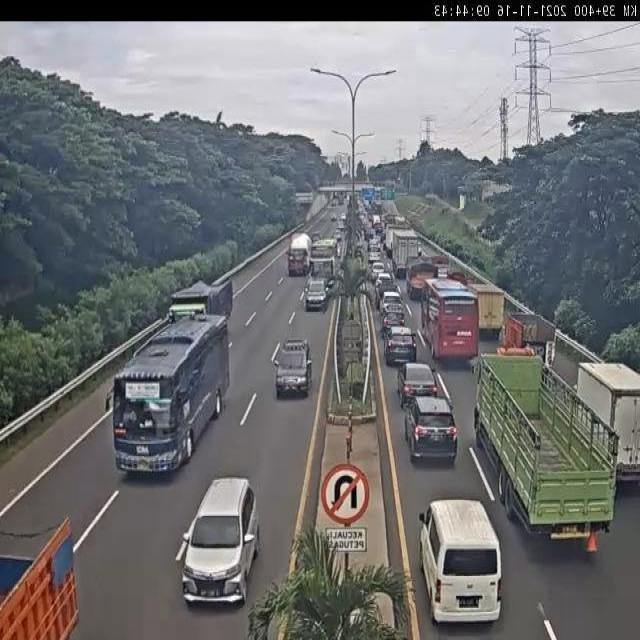Bus: (104, 311, 230, 477), (420, 276, 481, 364), (308, 238, 338, 286)
Car: (179, 477, 258, 606), (403, 394, 459, 464), (274, 337, 314, 398), (396, 361, 440, 403), (384, 324, 418, 366), (379, 303, 406, 337), (304, 279, 329, 312), (380, 289, 402, 312), (376, 271, 395, 291), (370, 260, 386, 278), (333, 226, 342, 242), (340, 212, 346, 223), (331, 199, 338, 207), (331, 214, 337, 222)
Truck: (469, 350, 619, 544), (572, 356, 640, 481), (168, 276, 235, 331), (499, 309, 556, 363), (468, 281, 506, 336), (404, 255, 441, 301), (391, 227, 421, 279), (286, 229, 312, 276)
Van: (416, 496, 505, 629), (367, 244, 382, 264)
